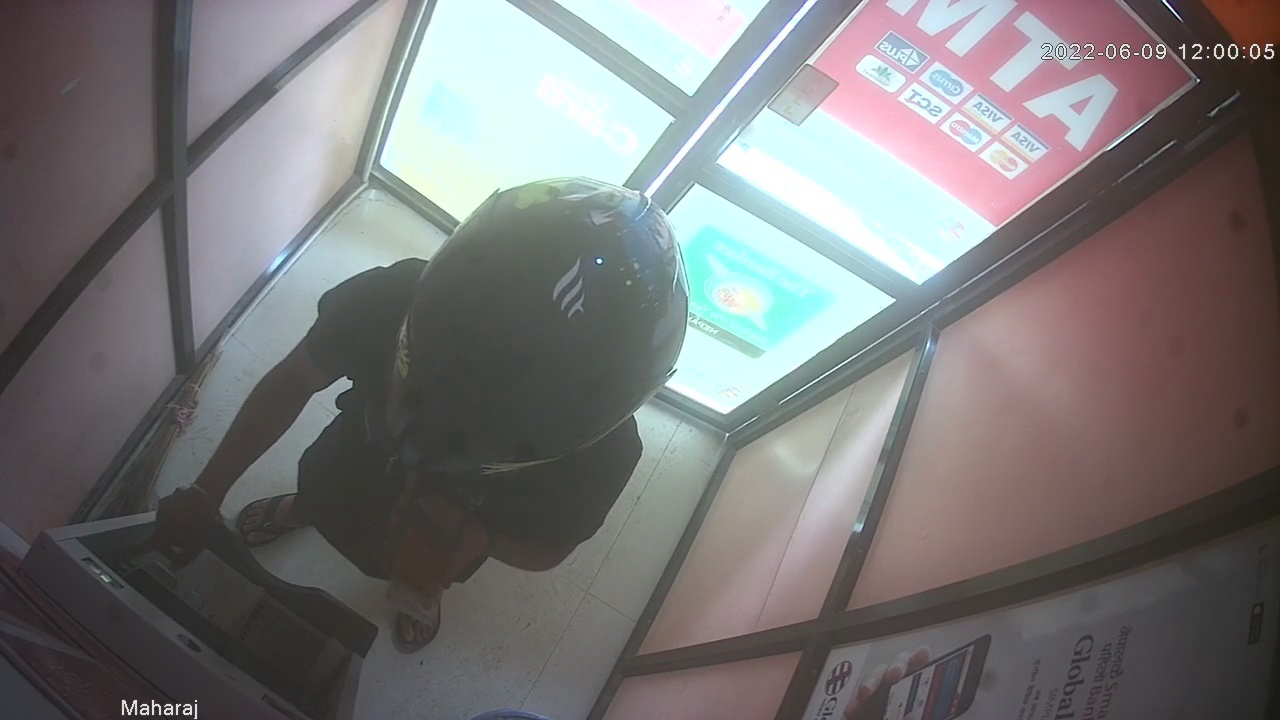helmet: (383, 179, 688, 479)
person: (149, 177, 690, 657)
